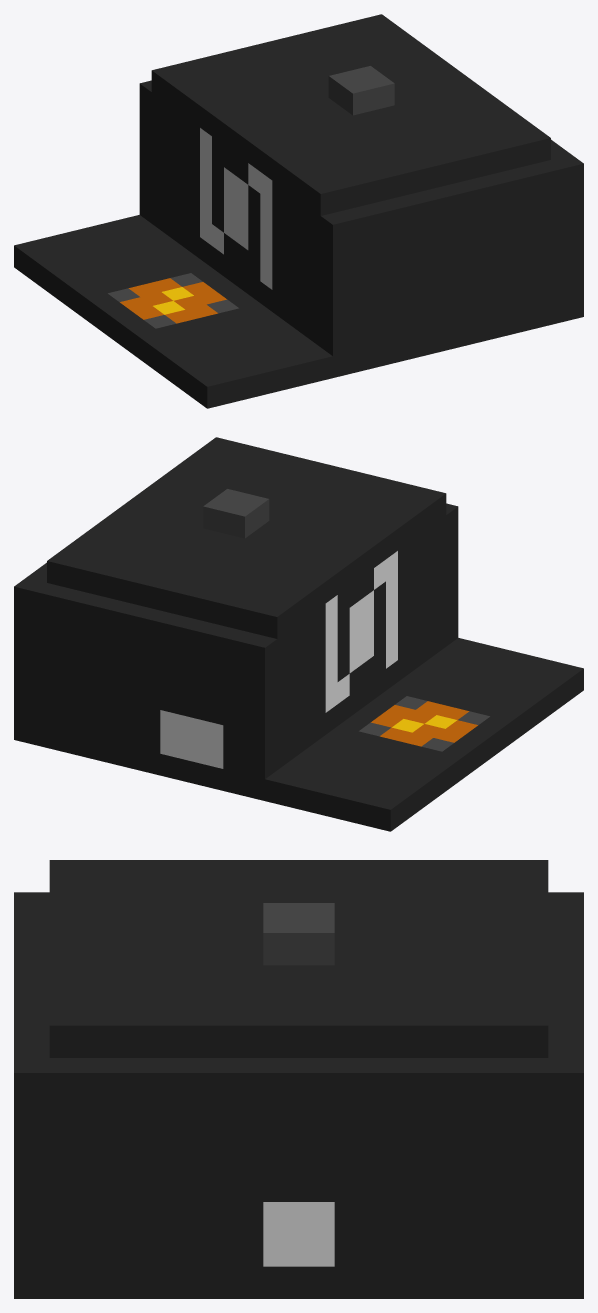
Rendered from Voxel Universe-35-Cap Black.obj.
The picture shows the model from 3 angles, top to bottom: view 1: azimuth 30°, elevation 25°; view 2: azimuth 150°, elevation 25°; view 3: azimuth 270°, elevation 25°; orthographic projection. The views are drawn at different scales.
Parts seen in each view (by area): view 1: Cap Black; view 2: Cap Black; view 3: Cap Black.
Part boxes in pixels (left/top/right/bottom): Cap Black: left=14, top=14, right=583, bottom=408; Cap Black: left=14, top=437, right=583, bottom=831; Cap Black: left=14, top=860, right=583, bottom=1298.
Bounding box in the file's own units: 1.8 × 0.9 × 1.6.
1 material, 1 textured.
